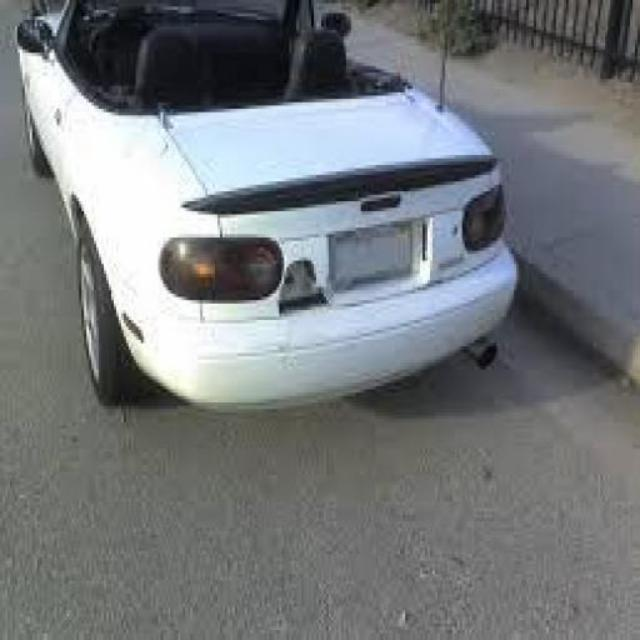no part: (271, 249, 337, 334)
